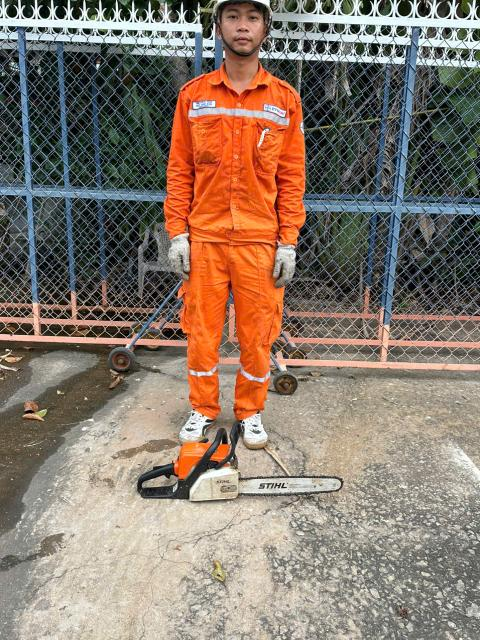gloves: (162, 232, 198, 288), (270, 234, 302, 295)
shoes: (173, 396, 210, 447), (237, 413, 270, 454)
